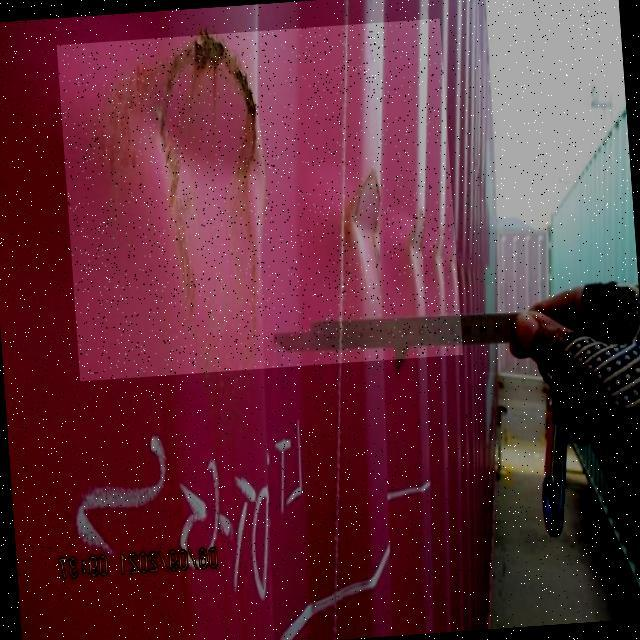Dent: (56, 18, 463, 381)
